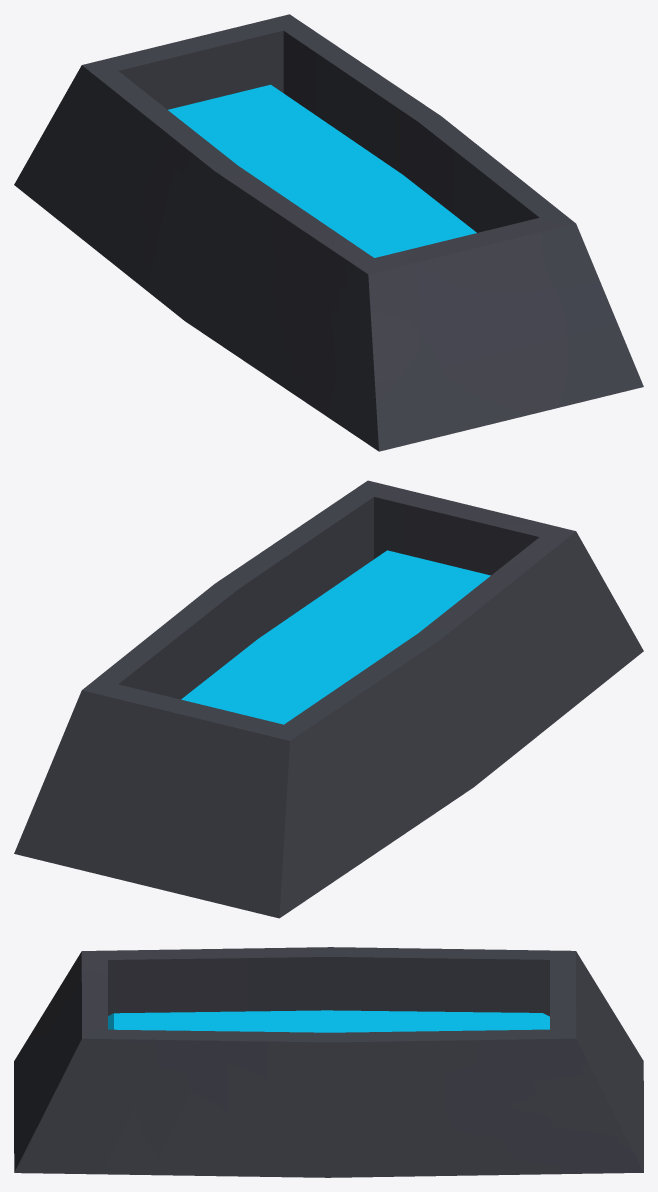
File: WaterBox.fbx
The picture shows the model from 3 angles, top to bottom: view 1: azimuth 30°, elevation 25°; view 2: azimuth 150°, elevation 25°; view 3: azimuth 270°, elevation 25°; orthographic projection. The views are drawn at different scales.
Parts seen in each view (by area): view 1: WaterBox; view 2: WaterBox; view 3: WaterBox.
Part boxes in pixels (x1,y1,x2,y2): WaterBox: (14, 14, 643, 451); WaterBox: (14, 480, 643, 918); WaterBox: (14, 947, 643, 1177).
Bounding box in the file's own units: 25.26 × 11.85 × 55.33.
